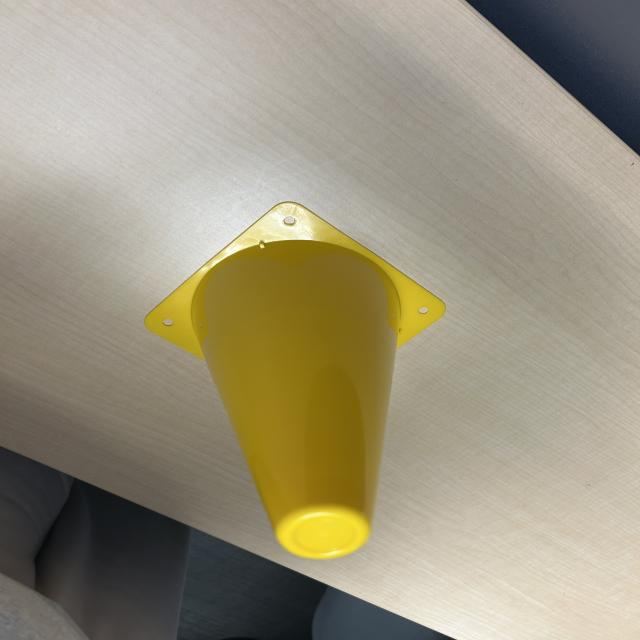yellow cone: (138, 195, 466, 576)
